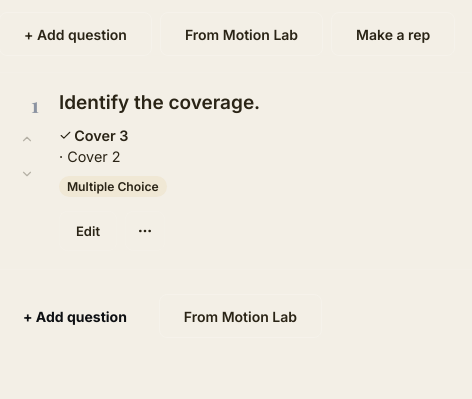
Test: Make a rep, in the quiz editor › says why when the quiz has nothing a Rep can judge
This screenshot has width=472, height=399.
Click the button "Make a rep": click(393, 34) [331,12,455,56]
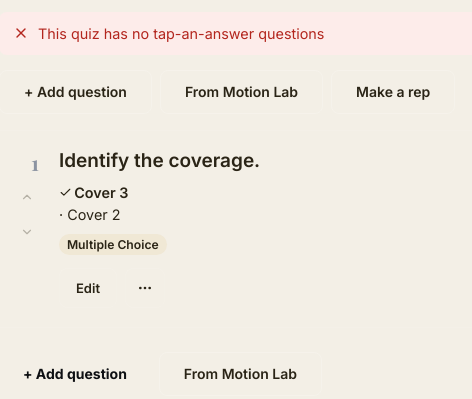
Expected: the button "Make a rep" is enabled, [331,70,455,114]
Expected: the text "This quiz has no tap-an-answer questions" is shown, [38,23,324,44]
